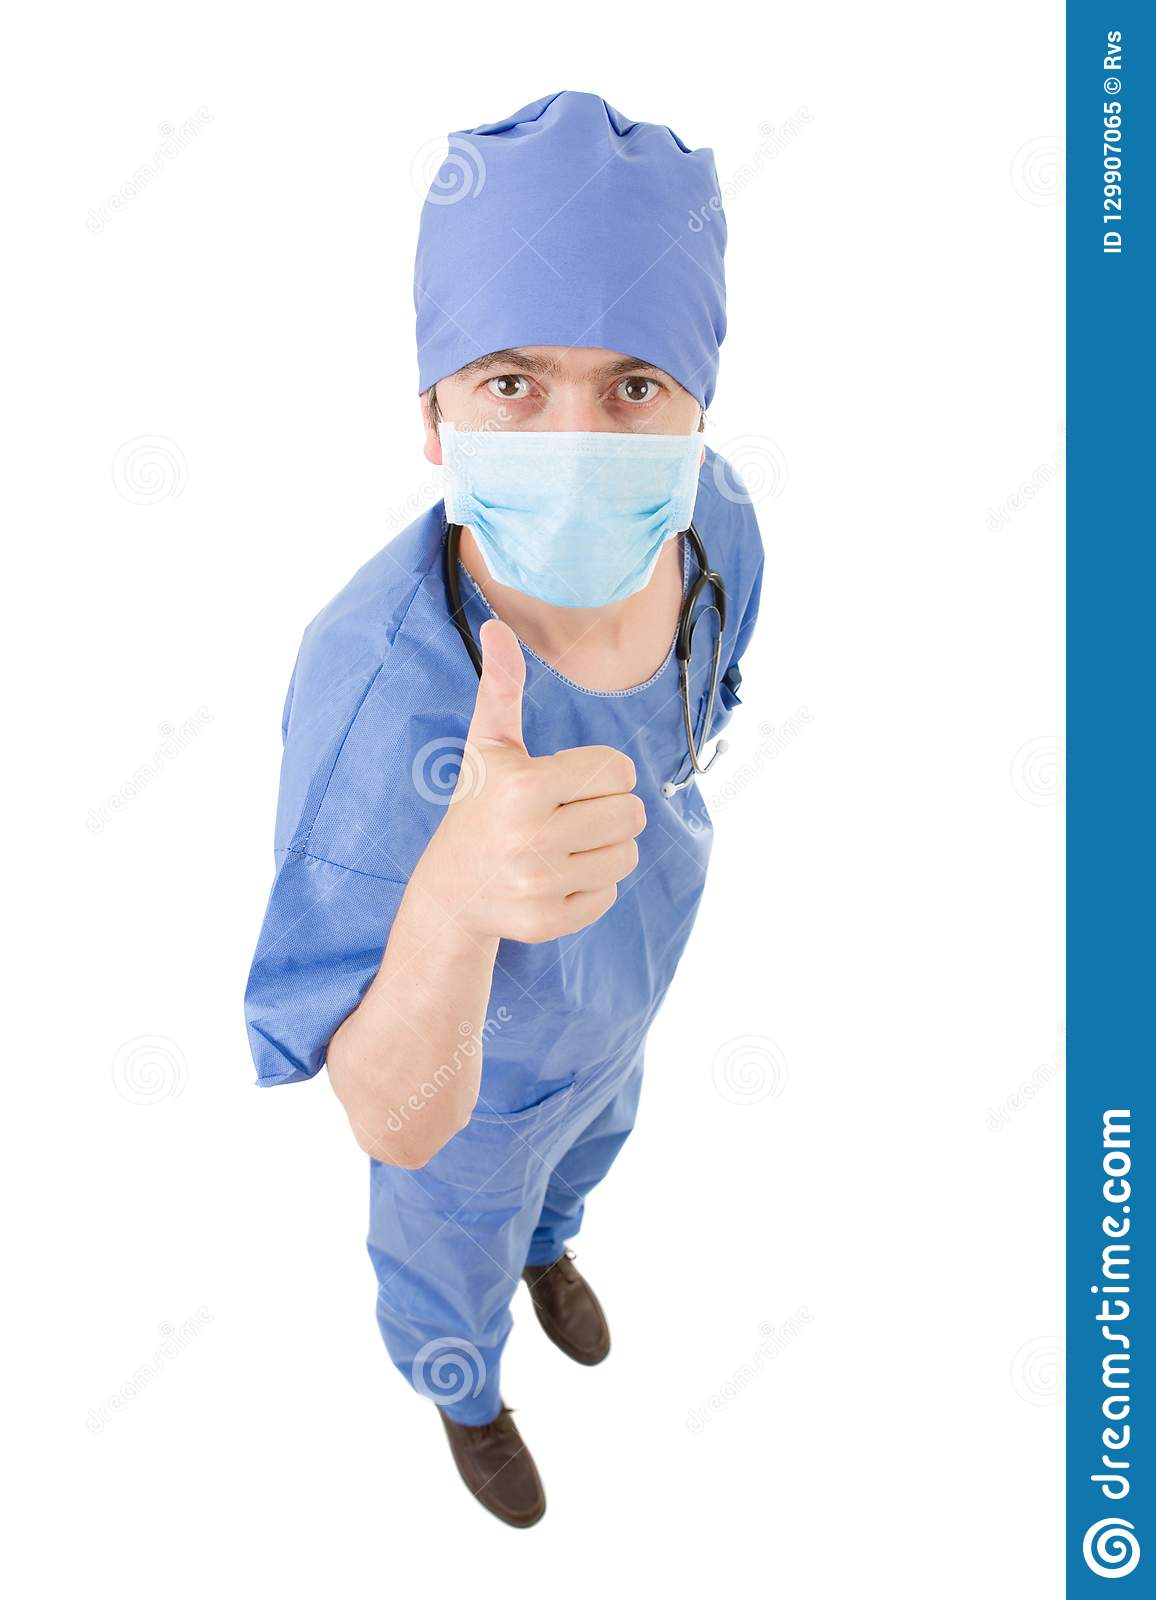mask: (442, 421, 703, 609)
